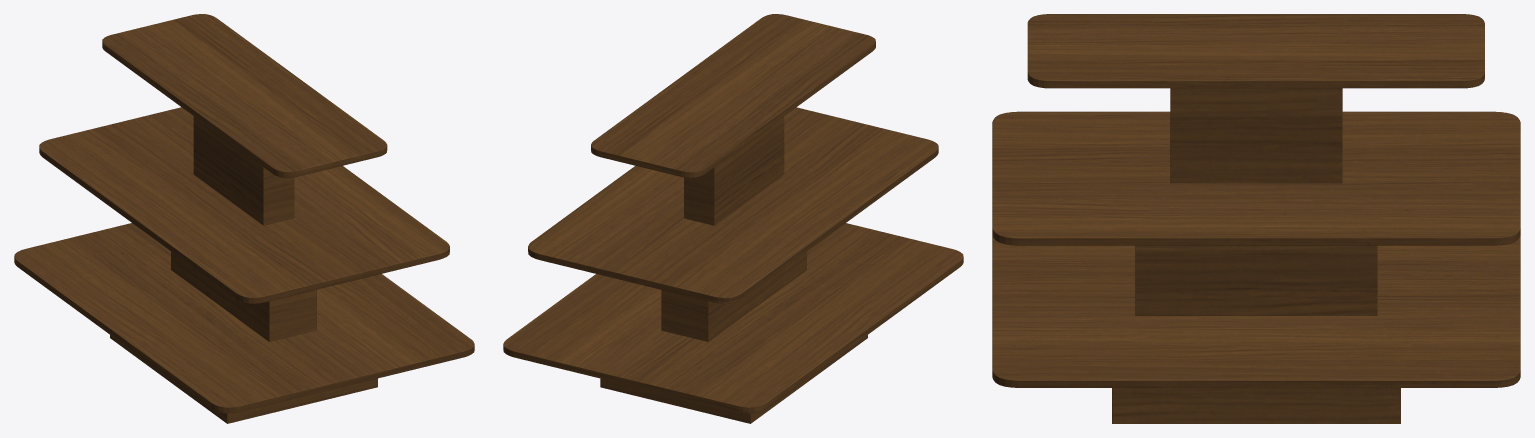
File: mueble2.obj
3 renders of one model, left to right at view 1: azimuth 30°, elevation 25°; view 2: azimuth 150°, elevation 25°; view 3: azimuth 270°, elevation 25°, orthographic. The views are drawn at different scales.
Visible parts, largest first — view 1: threetierrecttable; view 2: threetierrecttable; view 3: threetierrecttable.
Part boxes in pixels (x1=…): threetierrecttable: x1=14, y1=14, x2=474, y2=423; threetierrecttable: x1=503, y1=14, x2=963, y2=423; threetierrecttable: x1=992, y1=14, x2=1520, y2=423.
Size of the model in its own units: 107 by 106 by 152.
Materials: 1 (1 with a texture image).
